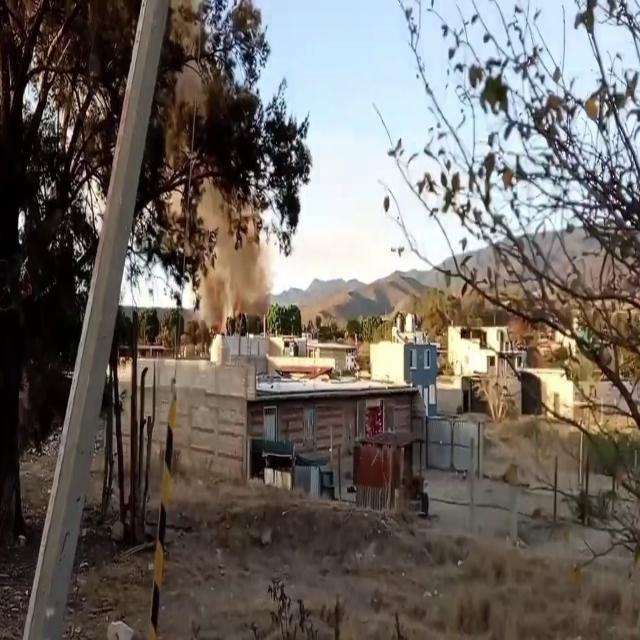Smoke: (146, 0, 320, 309)
